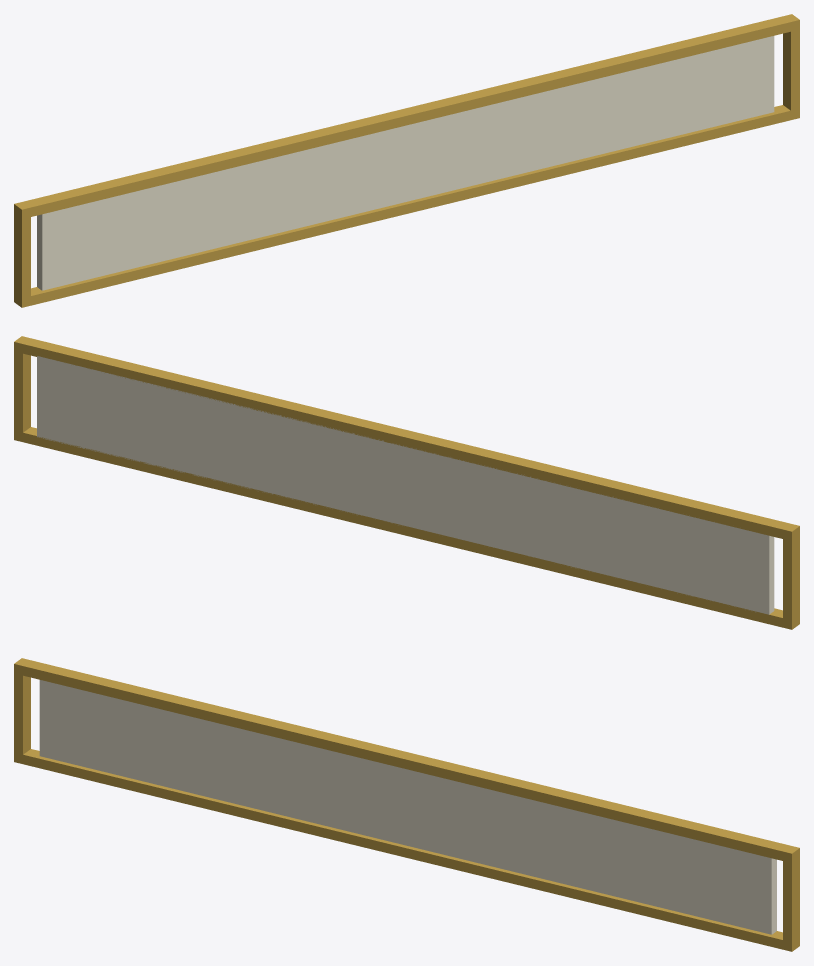
Rendered from switch.tag.glb.
The picture shows the model from 3 angles, top to bottom: view 1: azimuth 30°, elevation 25°; view 2: azimuth 150°, elevation 25°; view 3: azimuth 330°, elevation 25°; orthographic projection.
Visible parts, largest first — view 1: card, rail1, rail-1, end1, end-1; view 2: card, rail1, rail-1, end1, end-1; view 3: card, rail1, rail-1, end-1, end1.
Part boxes in pixels (x1,y1,x2,y2): card: (37, 36, 774, 290); rail1: (14, 14, 799, 219); rail-1: (14, 105, 799, 307); end1: (783, 21, 799, 118); end-1: (14, 210, 30, 304); card: (37, 356, 774, 614); rail1: (14, 336, 799, 541); rail-1: (14, 427, 799, 629); end1: (14, 345, 30, 440); end-1: (783, 530, 799, 622); card: (39, 680, 776, 934); rail1: (14, 658, 799, 863); rail-1: (14, 749, 799, 951); end-1: (14, 667, 30, 762); end1: (783, 852, 799, 944).
Bounding box in the file's own units: 0.34 × 0.041 × 0.006.
